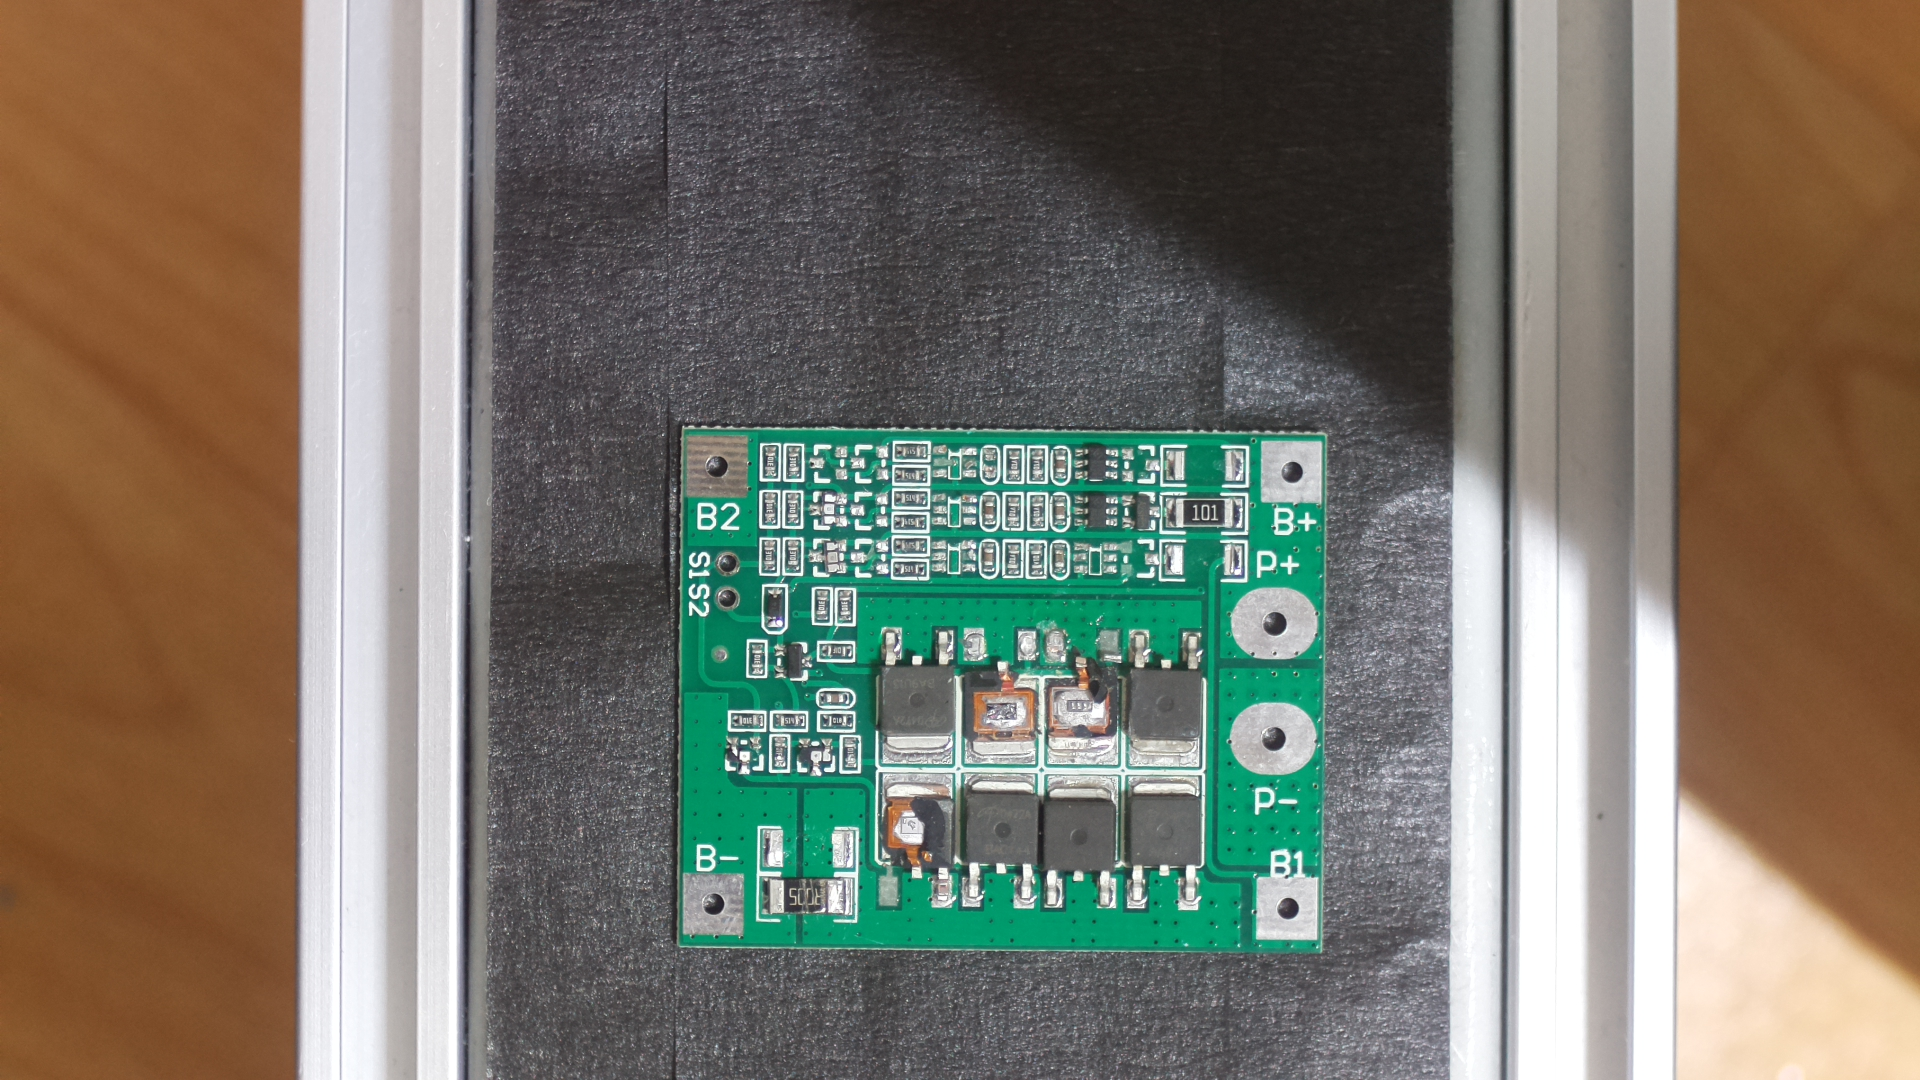C_Missing_part: (666, 411, 1338, 975)
